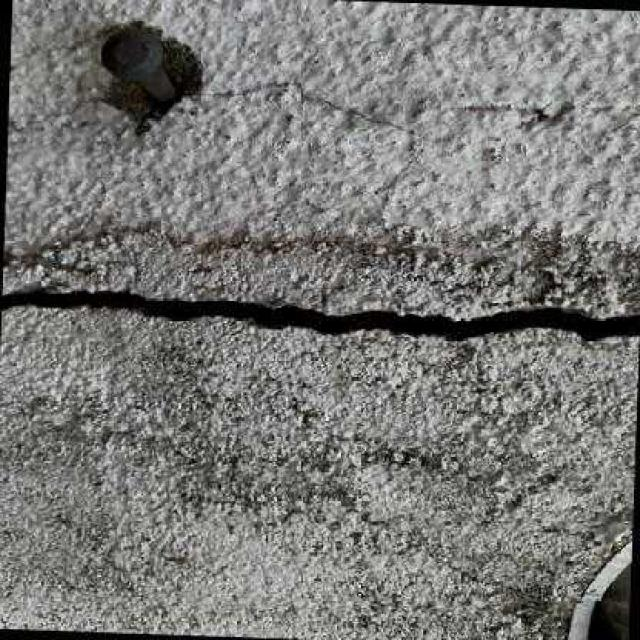D00: (0, 289, 640, 342)
